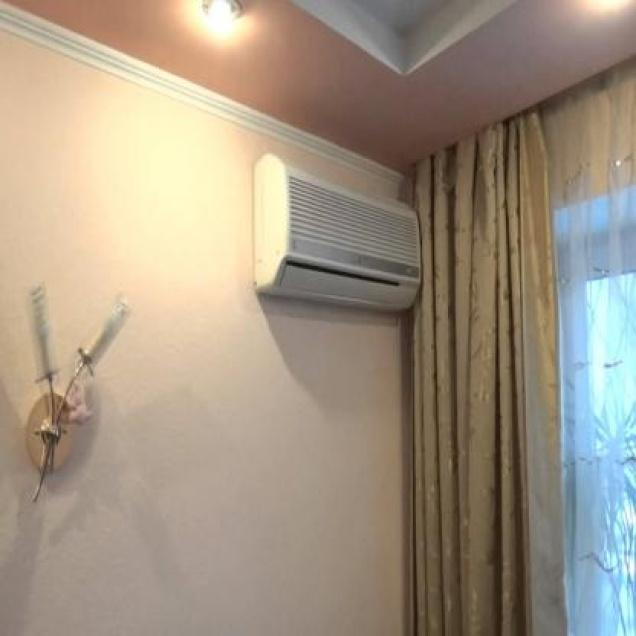AC: (252, 150, 420, 316)
